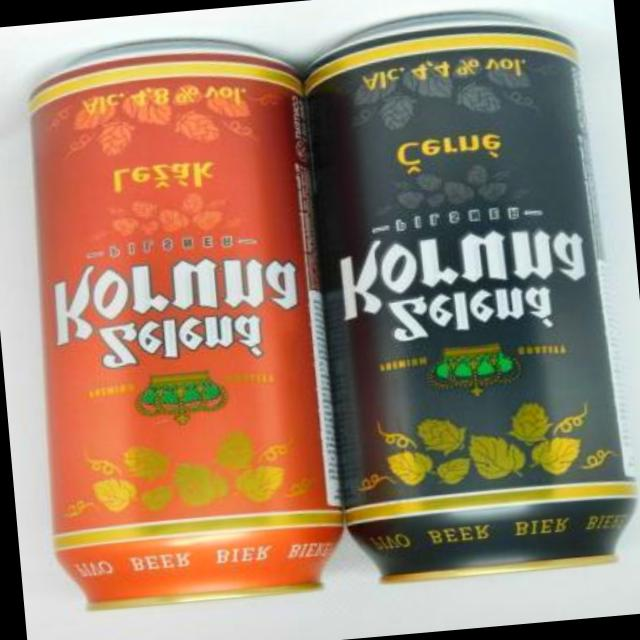metal: (304, 18, 633, 584), (29, 46, 339, 611)
